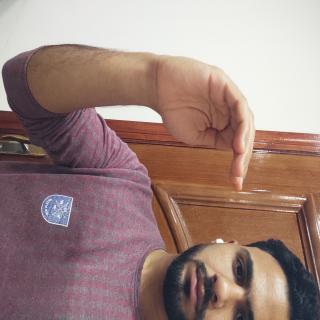HAA: (35, 76, 144, 233)
